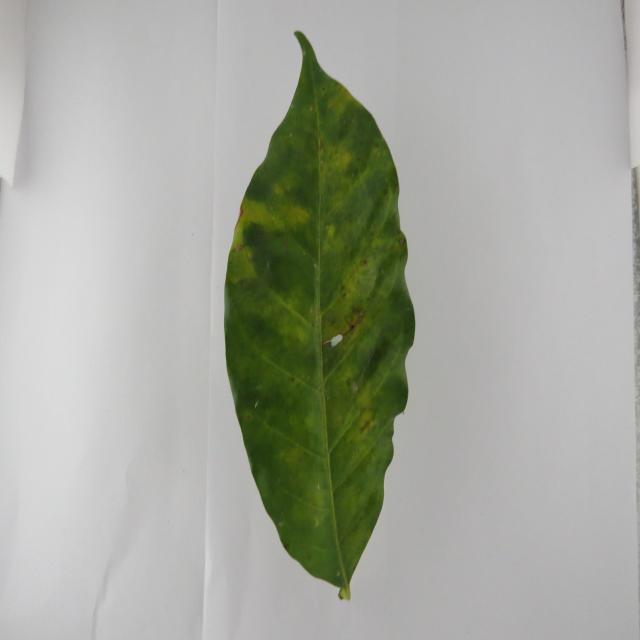DeficienciaNutricional-Calcio: (225, 32, 415, 600)
